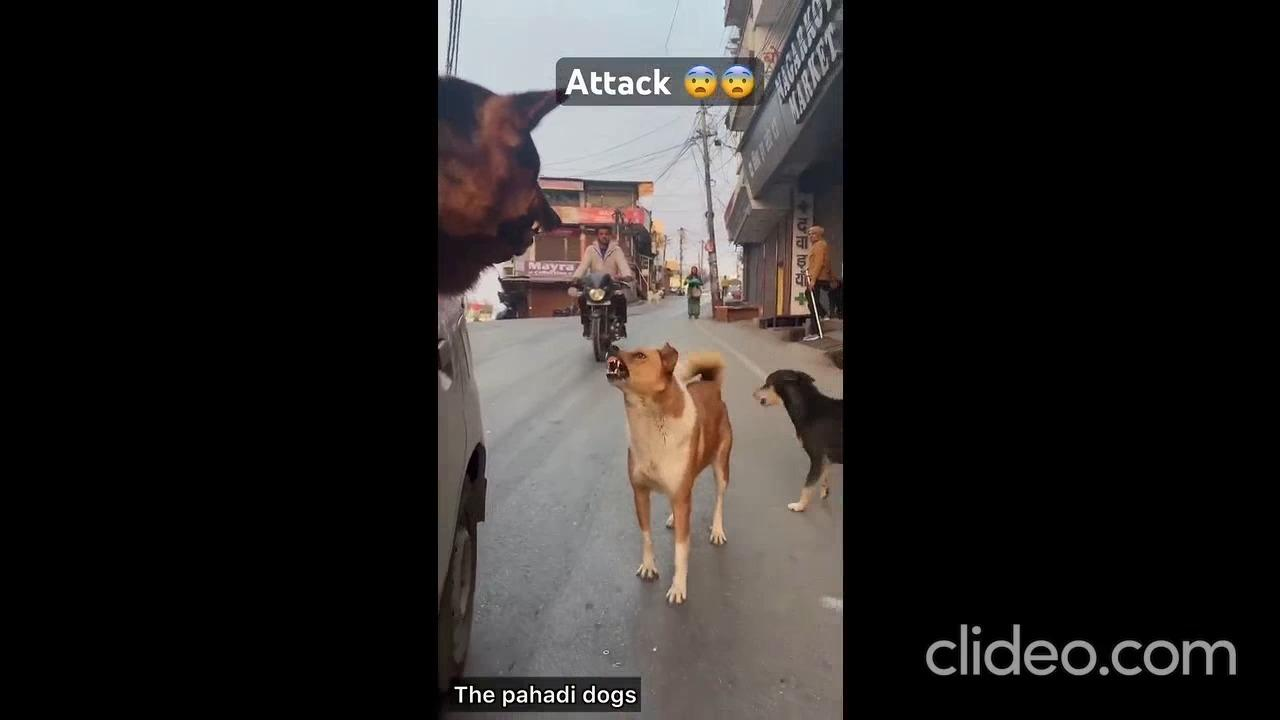dog: (604, 322, 732, 597), (753, 362, 842, 510)
